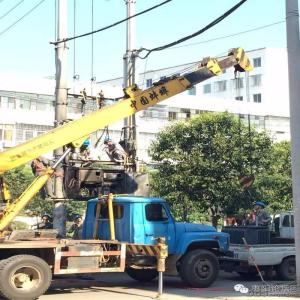blue: (254, 202, 267, 212), (104, 139, 112, 147), (82, 141, 90, 149), (75, 216, 84, 223), (43, 215, 52, 222)
